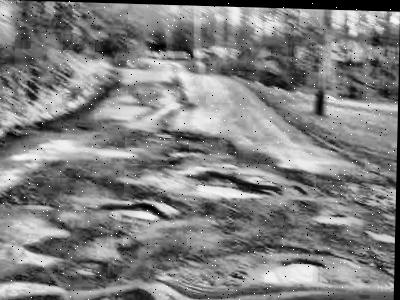pothole: (186, 167, 277, 199), (254, 254, 328, 286), (103, 199, 166, 222), (76, 285, 159, 300), (315, 209, 354, 221)
